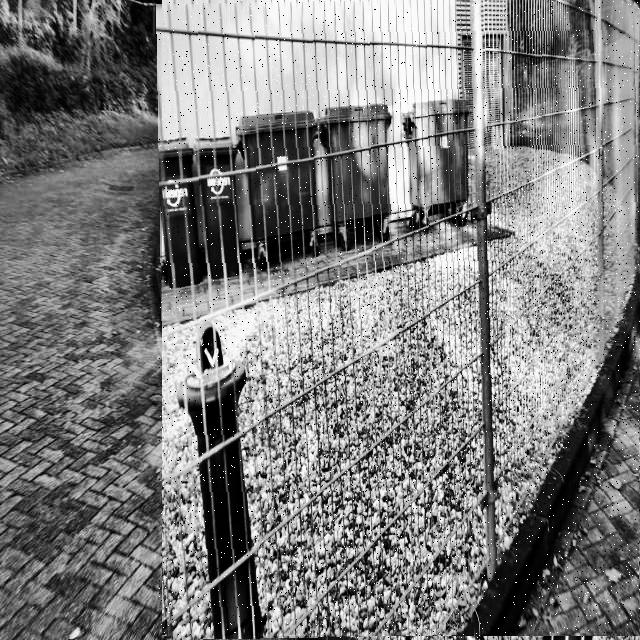fences: (159, 0, 640, 638)
